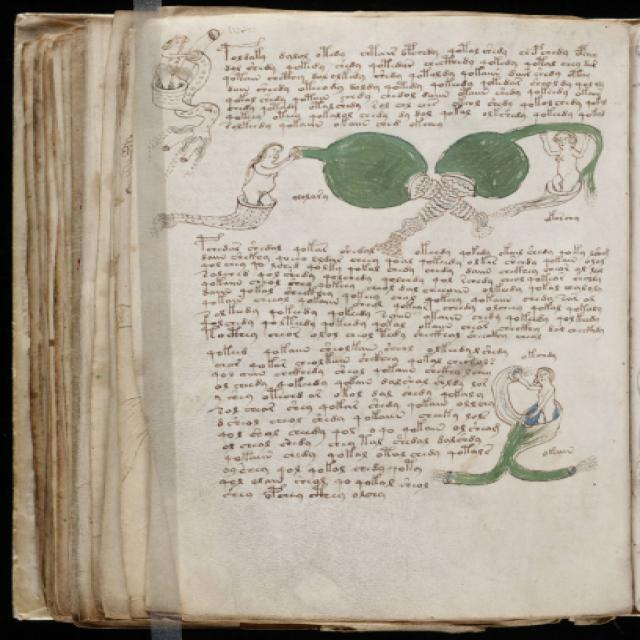person: (523, 115, 587, 202), (228, 137, 296, 217), (507, 361, 566, 431)
plant: (300, 122, 524, 244)
